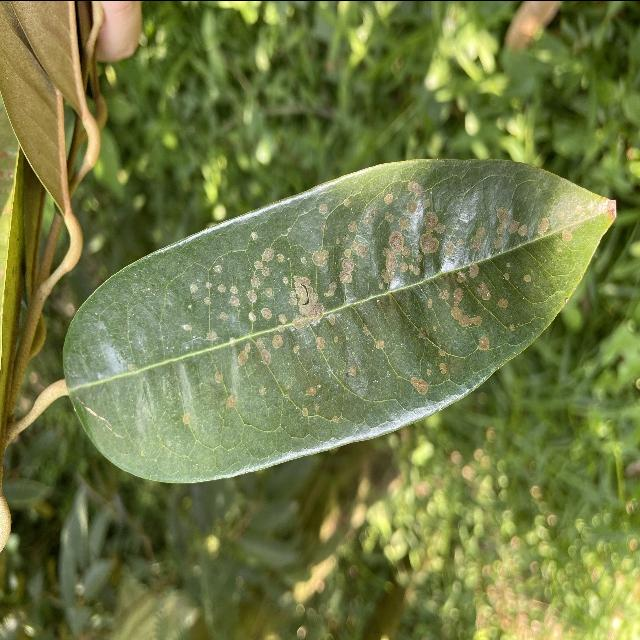Algal Leaf Spot: (49, 143, 623, 491)
